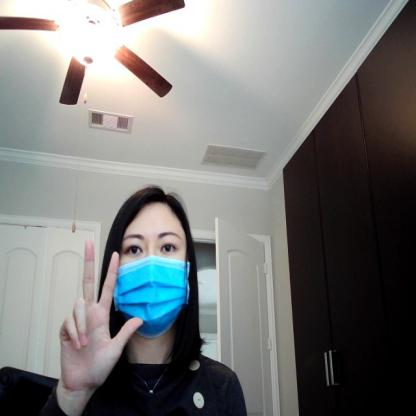three: (58, 236, 144, 393)
